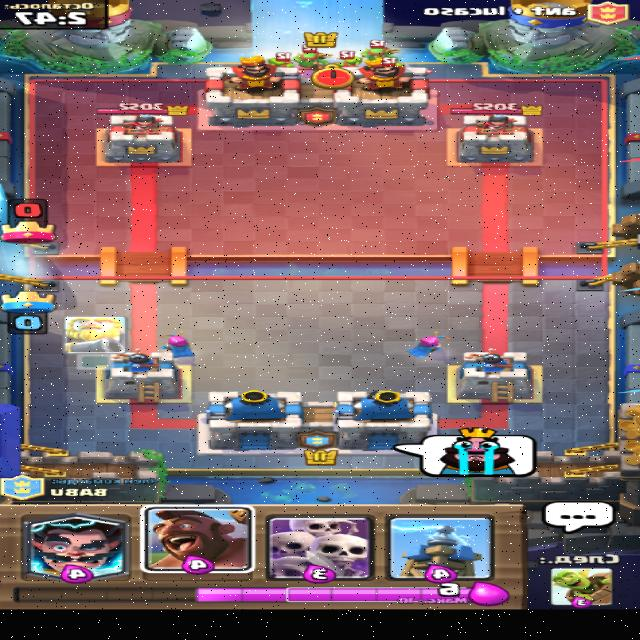Enemy-Goblin: (335, 50, 364, 67), (269, 52, 294, 66), (383, 57, 406, 66)
Enemy-SpearGoblin: (293, 43, 334, 66), (362, 38, 403, 58)
Player-Archer: (406, 330, 455, 358), (162, 330, 196, 358)
